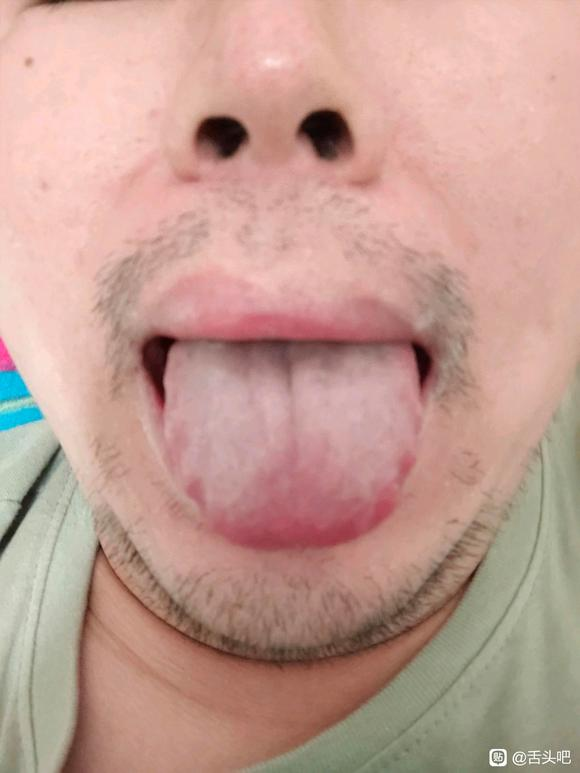baitaishe: (162, 339, 421, 551)
chihenshe: (367, 449, 419, 534)
hongshe: (162, 339, 421, 551)
